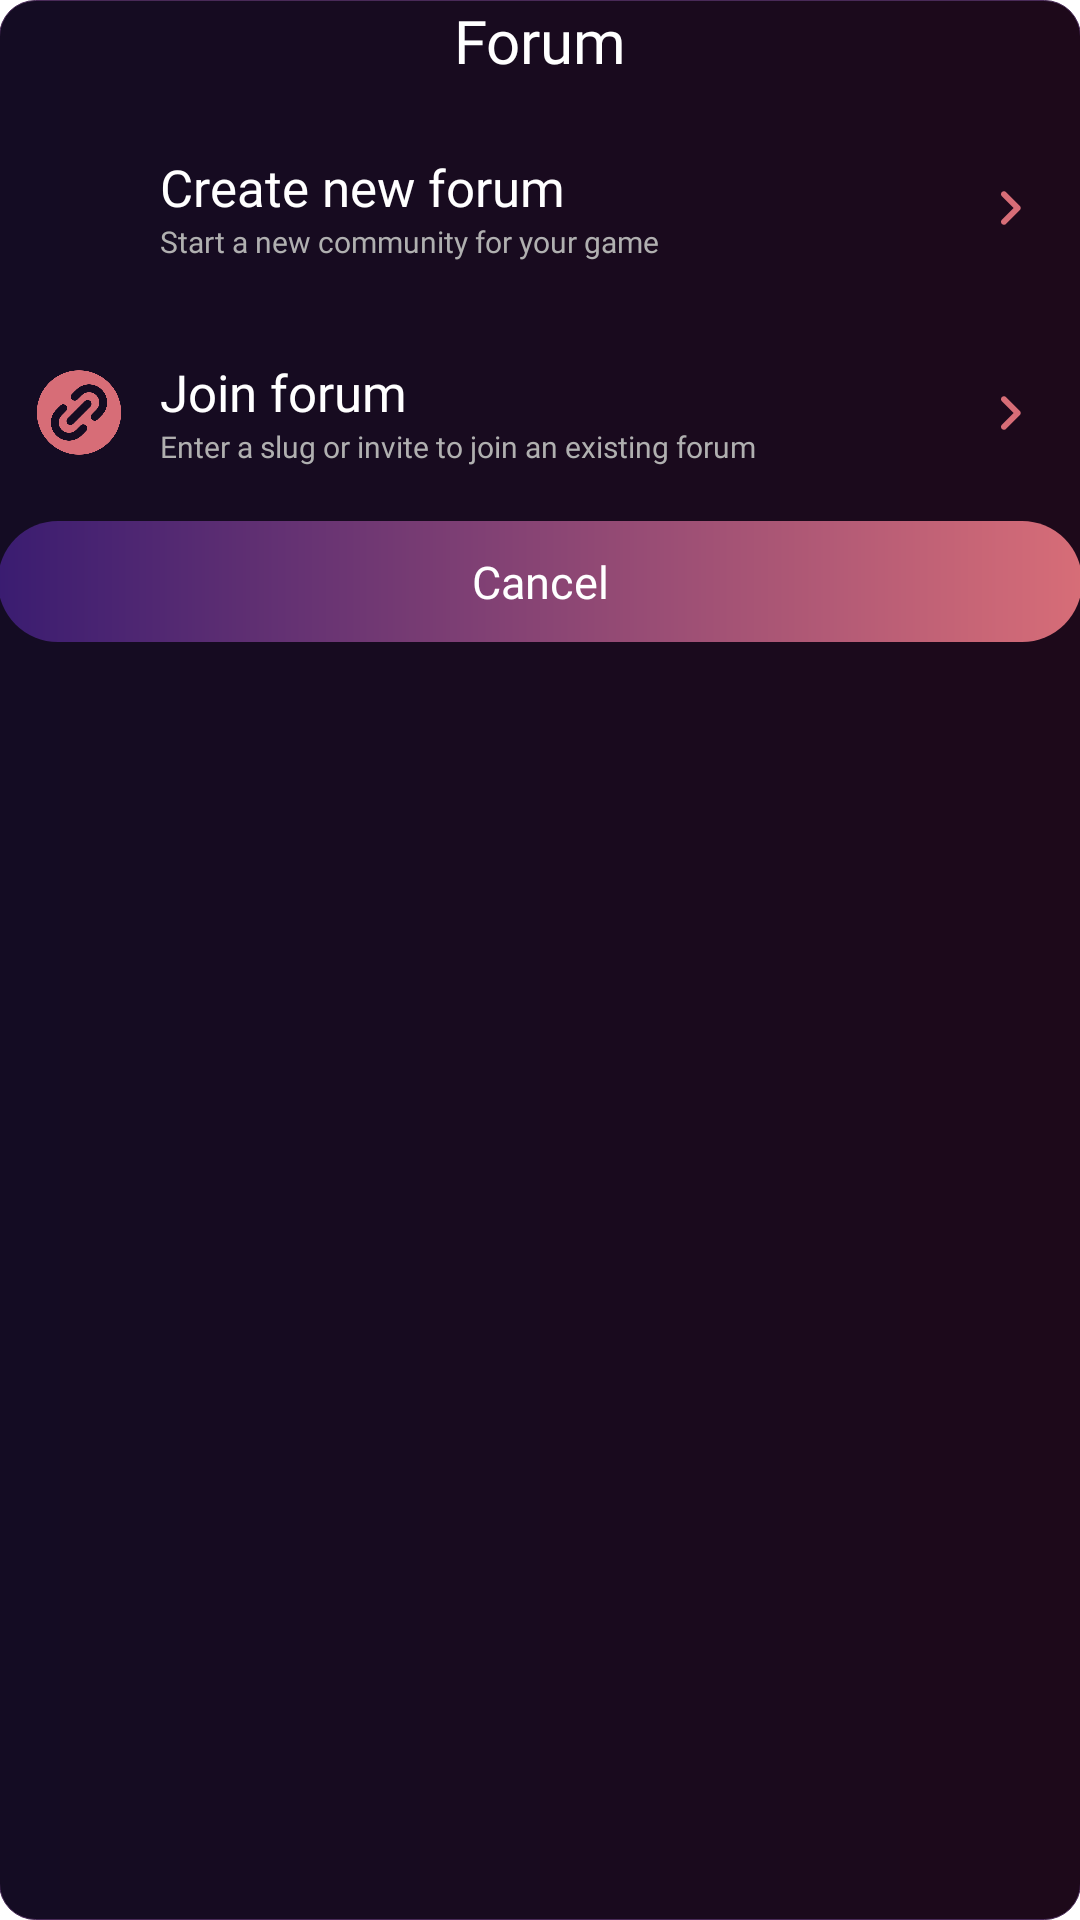

Icon bounding boxes for this 1080×1920 phone screenshot, format [left=x1, top=y1, right=x2, bottom=y2]:
chevron right: [left=1001, top=191, right=1021, bottom=225], [left=1001, top=396, right=1021, bottom=430]
